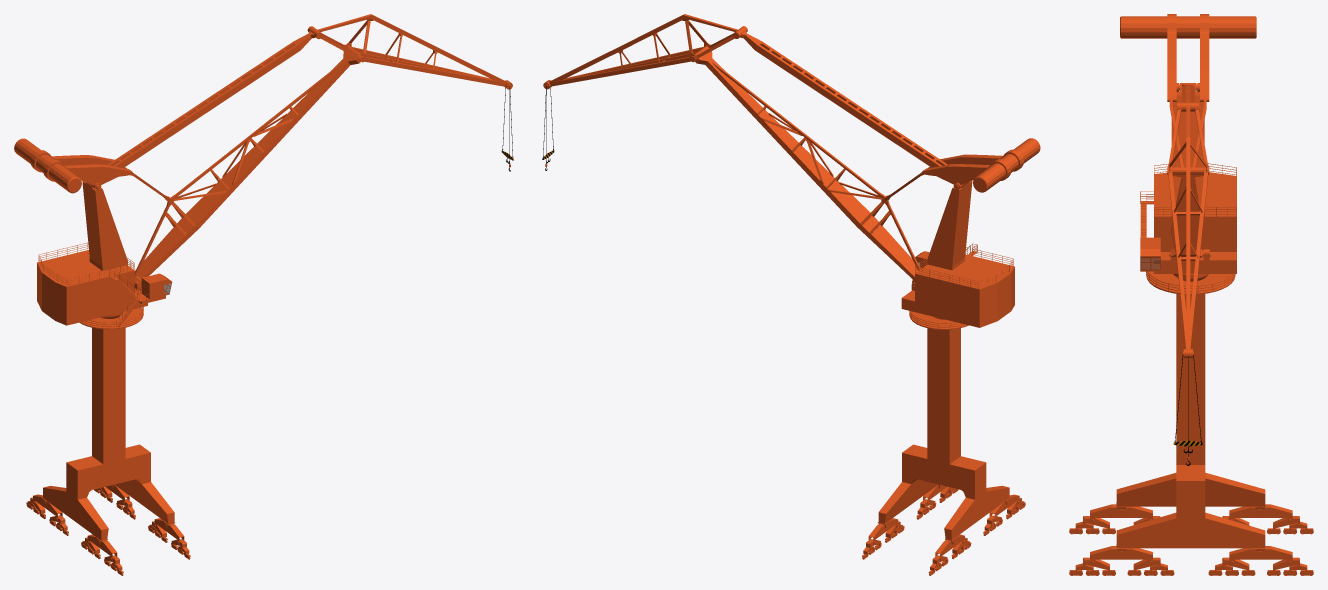
Rendered from okpo_oc.glb.
3 views of the same model, side by side, from view 1: azimuth 30°, elevation 25°; view 2: azimuth 150°, elevation 25°; view 3: azimuth 270°, elevation 25° (orthographic). The views are drawn at different scales.
Parts seen in each view (by area): view 1: Bottom, Top, Link_Lower.001, Link_Upper.003, Link_Upper.001, Link_Upper.002; view 2: Bottom, Top, Link_Lower.001, Link_Upper.003, Link_Upper.001, Link_Upper.002; view 3: Bottom, Top, Link_Upper.001, Link_Upper.003, Link_Lower.001, Link_End, Connector, Link_Upper.002.
Part boxes in pixels (x1,y1,x2,y2): Bottom: (26, 307, 190, 575); Top: (37, 181, 172, 327); Link_Lower.001: (134, 46, 360, 287); Link_Upper.003: (307, 14, 512, 89); Link_Upper.001: (14, 138, 132, 193); Link_Upper.002: (86, 27, 318, 185); Bottom: (862, 311, 1025, 575); Top: (901, 180, 1014, 327); Link_Lower.001: (695, 46, 920, 283); Link_Upper.003: (543, 14, 747, 89); Link_Upper.001: (922, 138, 1040, 192); Link_Upper.002: (737, 27, 968, 185); Bottom: (1069, 271, 1313, 575); Top: (1140, 83, 1236, 281); Link_Upper.001: (1120, 14, 1256, 101); Link_Upper.003: (1167, 102, 1209, 358); Link_Lower.001: (1170, 167, 1203, 257); Link_End: (1173, 355, 1202, 465); Connector: (1169, 96, 1206, 167); Link_Upper.002: (1182, 83, 1194, 111).
Size of the model in its own units: 84.94 by 78.31 by 29.88.
Materials: 4 (3 with a texture image).
